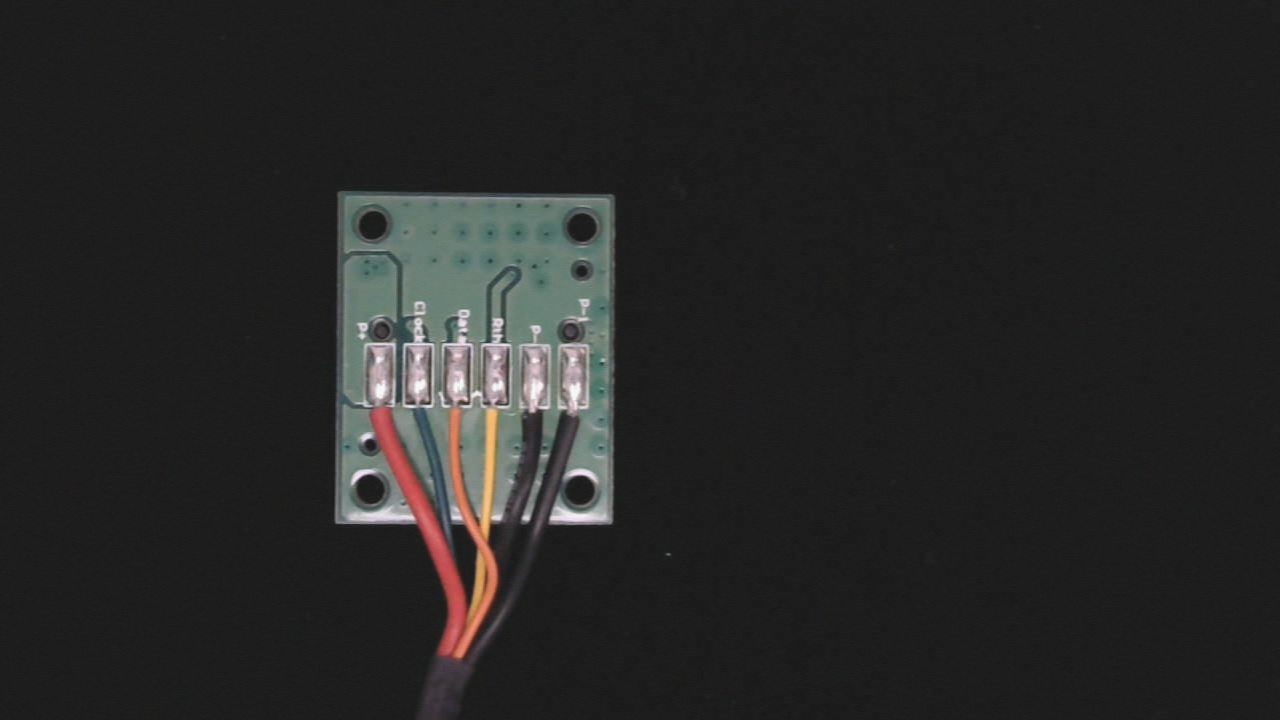Black: (519, 390, 551, 448)
Black1: (559, 390, 589, 450)
Green: (401, 389, 435, 446)
Orange: (440, 389, 472, 456)
Red: (365, 386, 397, 453)
Yellow: (481, 391, 512, 453)
